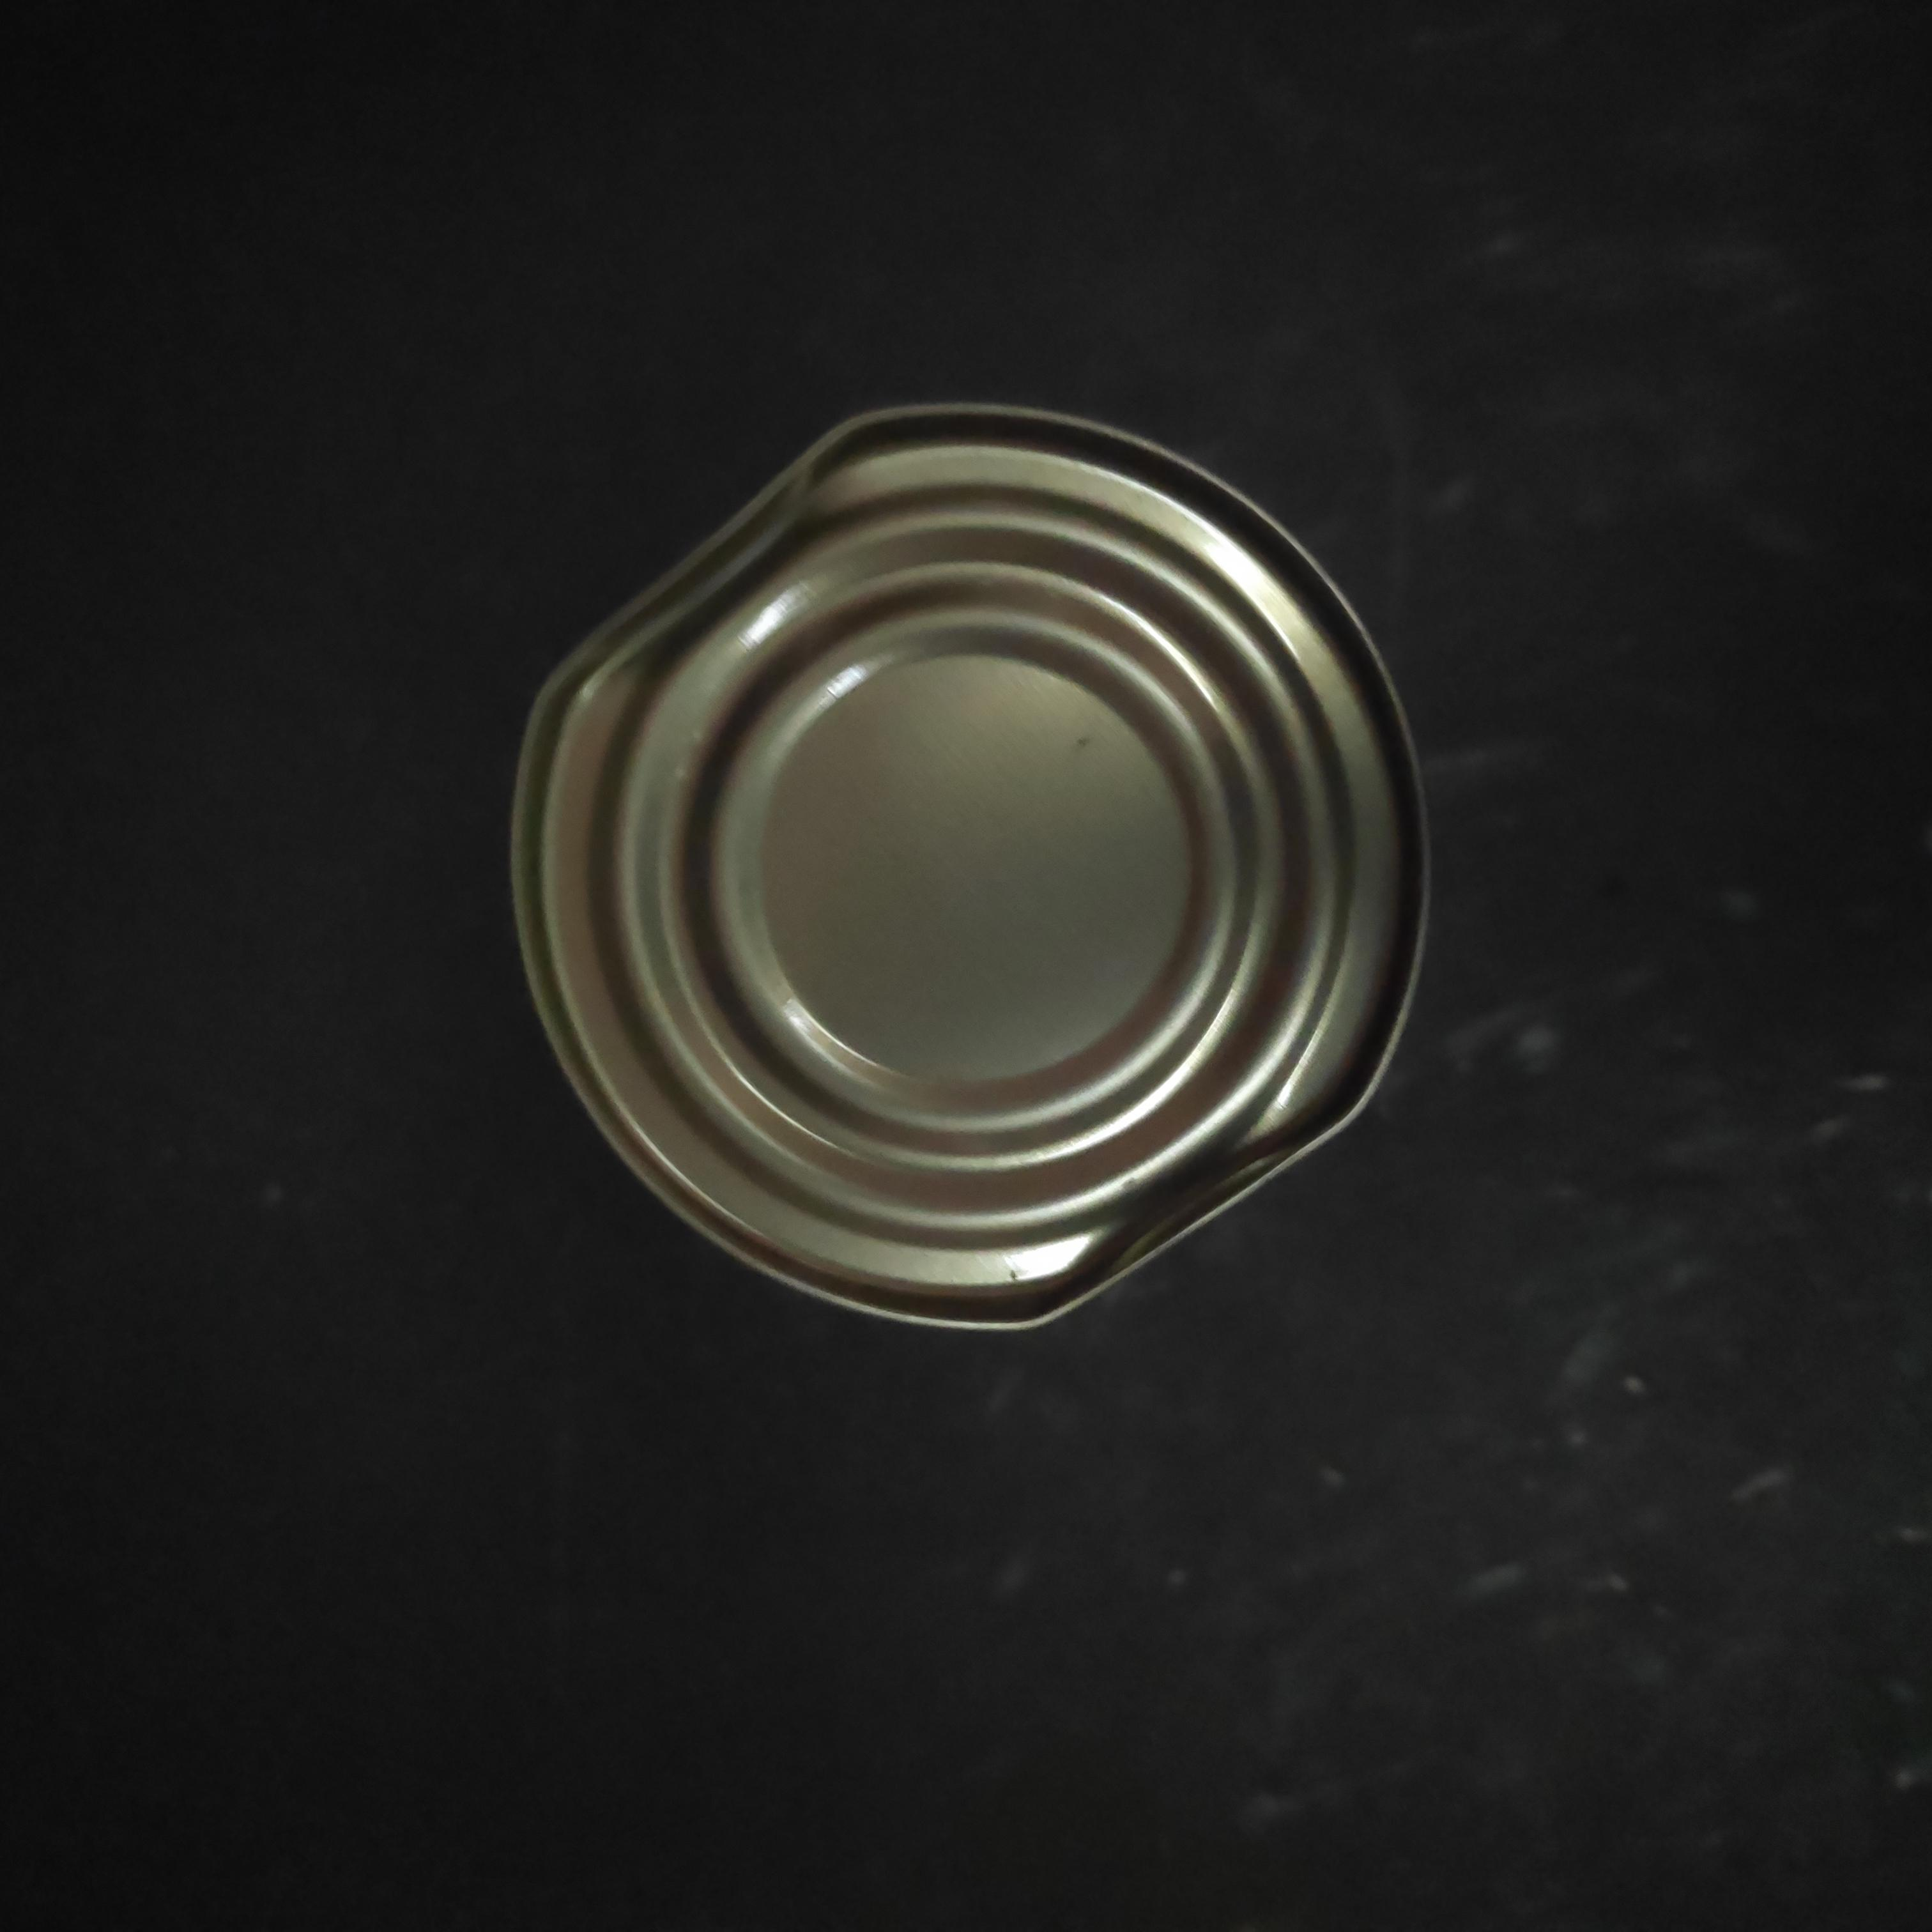Minor Defect: (490, 589, 1438, 1555)
